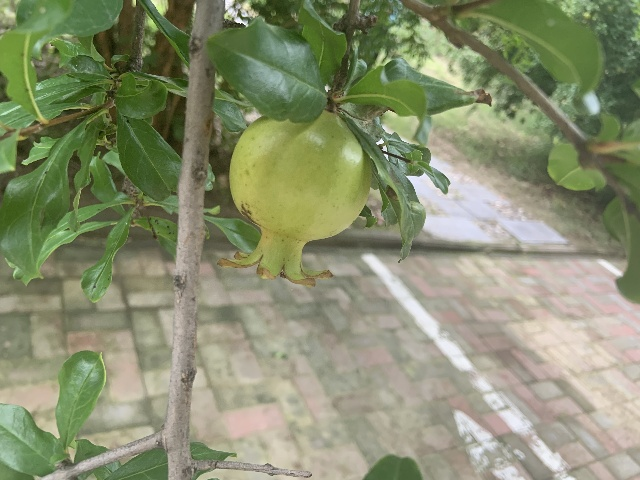mid-growth: (216, 109, 372, 286)
